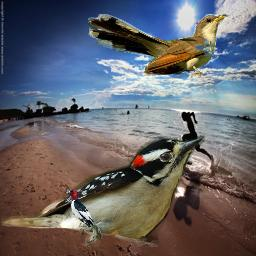Cuckoo: (88, 14, 229, 76)
Woodpecker: (1, 131, 205, 247), (63, 188, 95, 227)
